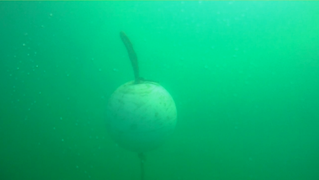buoy: (104, 80, 178, 153)
